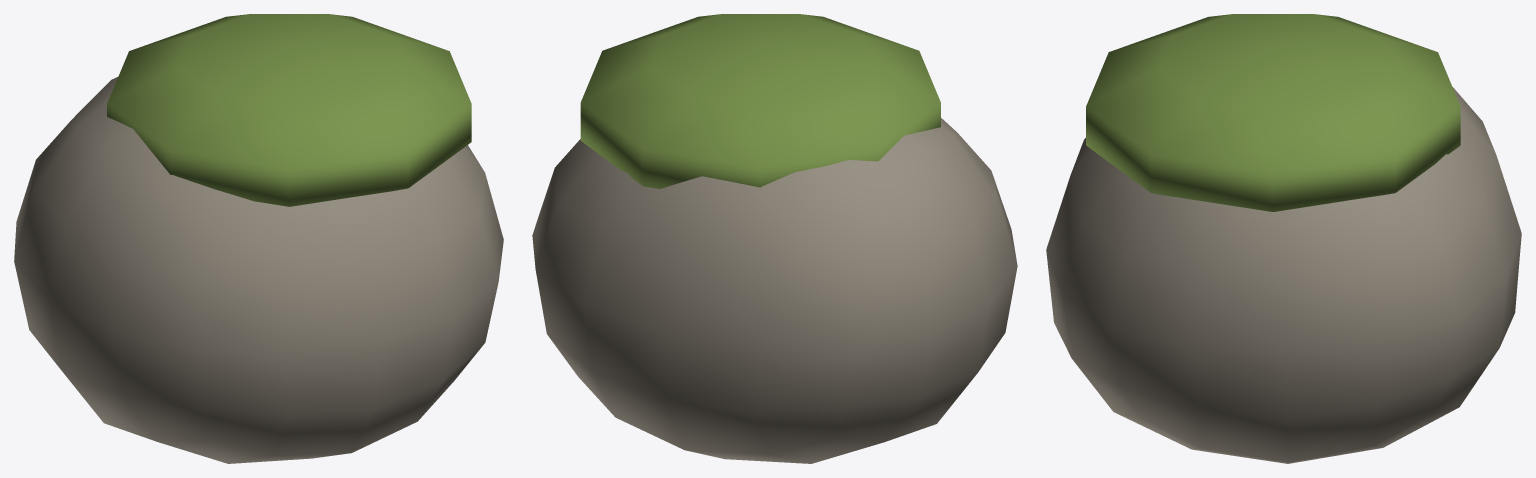
The model's file is rock_big.glb.
The picture shows the model from 3 angles, left to right: view 1: azimuth 30°, elevation 25°; view 2: azimuth 150°, elevation 25°; view 3: azimuth 270°, elevation 25°; orthographic projection. The views are drawn at different scales.
Visible parts, largest first — view 1: body; view 2: body; view 3: body.
Boxes of the visible parts, x1,y1,x2,y2 form: body: (14, 14, 503, 463); body: (532, 14, 1017, 463); body: (1046, 14, 1521, 463).
Size of the model in its own units: 1.84 by 1.58 by 1.73.
